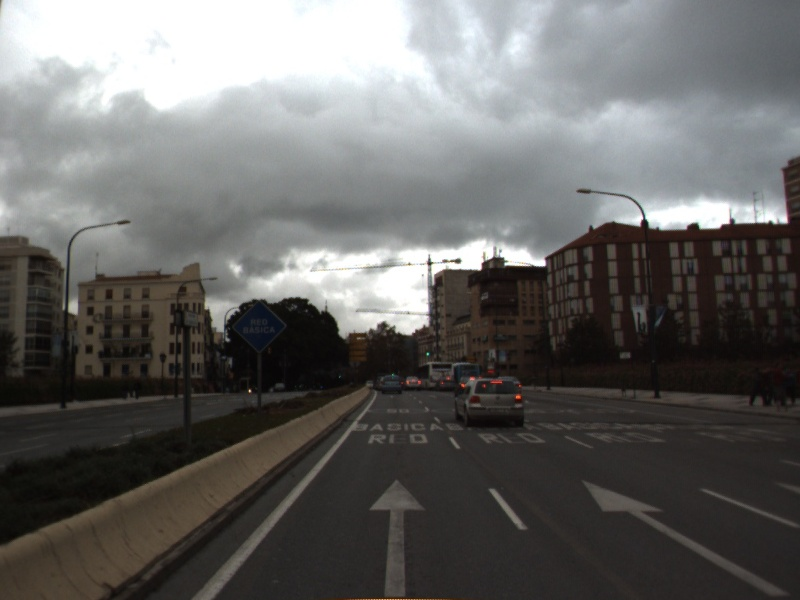STRAIGHT: (577, 476, 795, 598), (364, 474, 431, 599)
